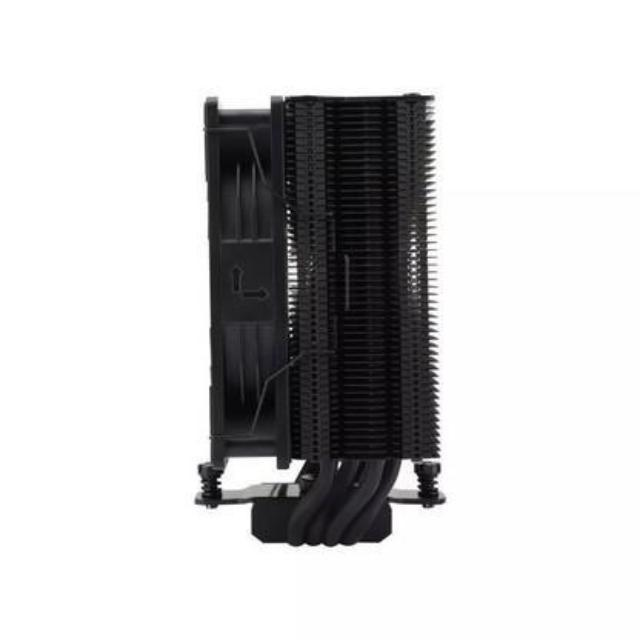CPU_Fan: (180, 80, 448, 552)
